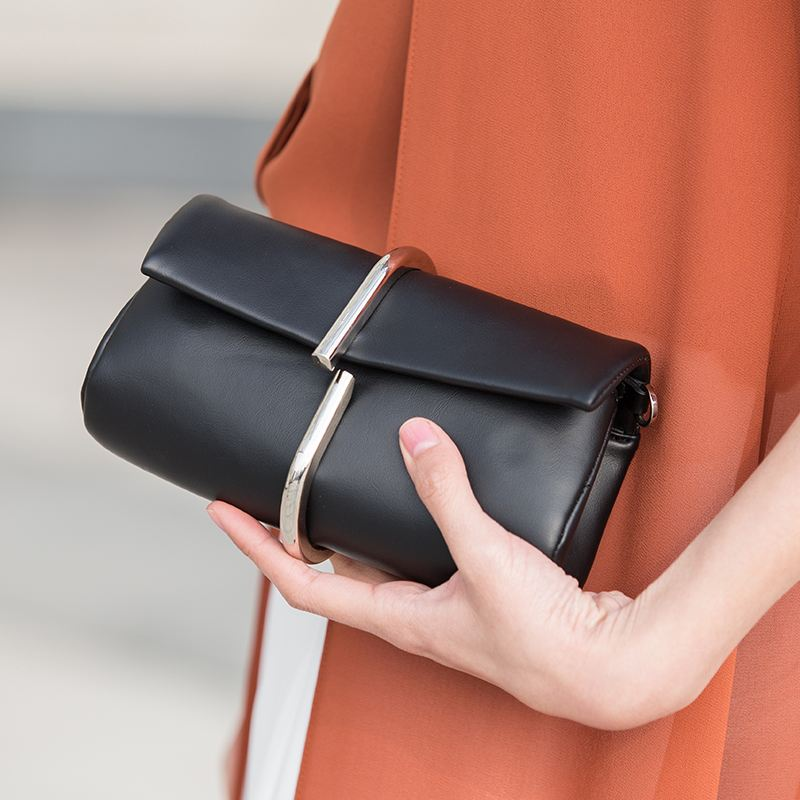no-phone: (71, 201, 668, 735)
